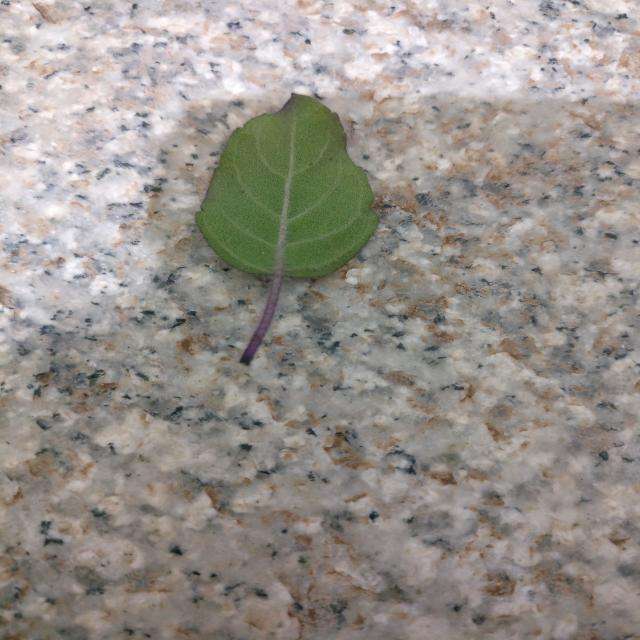tulsi: (197, 94, 378, 278)
